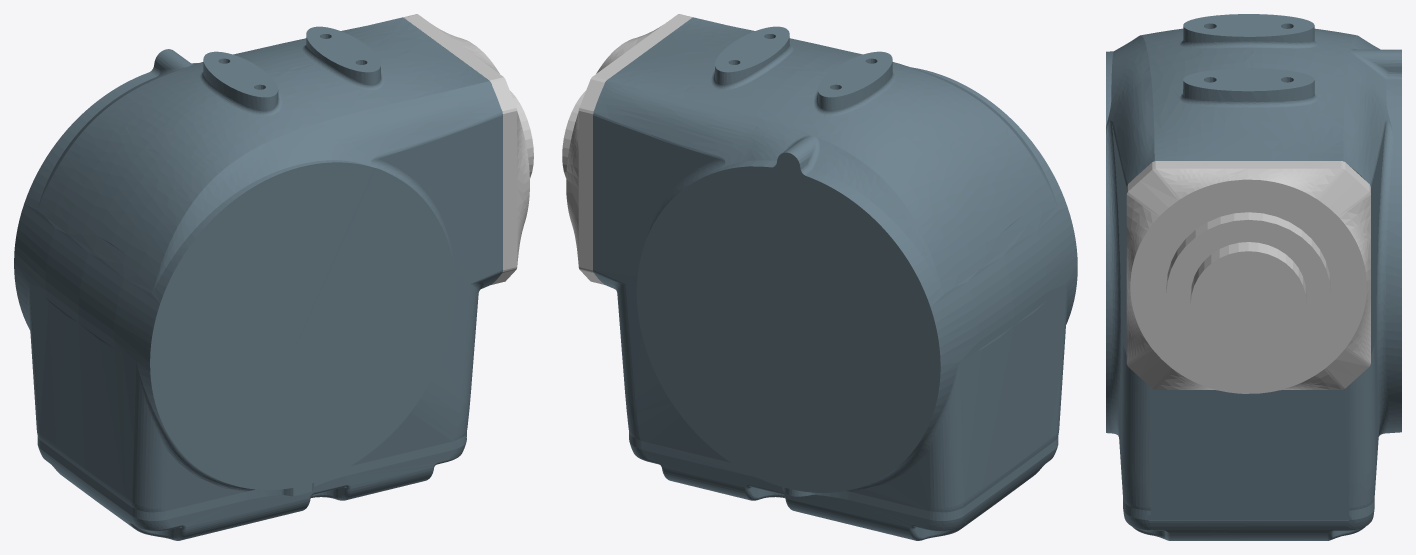
The picture shows the model from 3 angles, left to right: view 1: azimuth 30°, elevation 25°; view 2: azimuth 150°, elevation 25°; view 3: azimuth 270°, elevation 25°; orthographic projection. The views are drawn at different scales.
Parts seen in each view (by area): view 1: link3_modified; view 2: link3_modified; view 3: link3_modified.
Boxes of the visible parts, <box> form: link3_modified: <box>14,14,533,540</box>; link3_modified: <box>562,14,1077,540</box>; link3_modified: <box>1106,14,1401,540</box>.
Size of the model in its own units: 0.2075 by 0.115 by 0.188.
